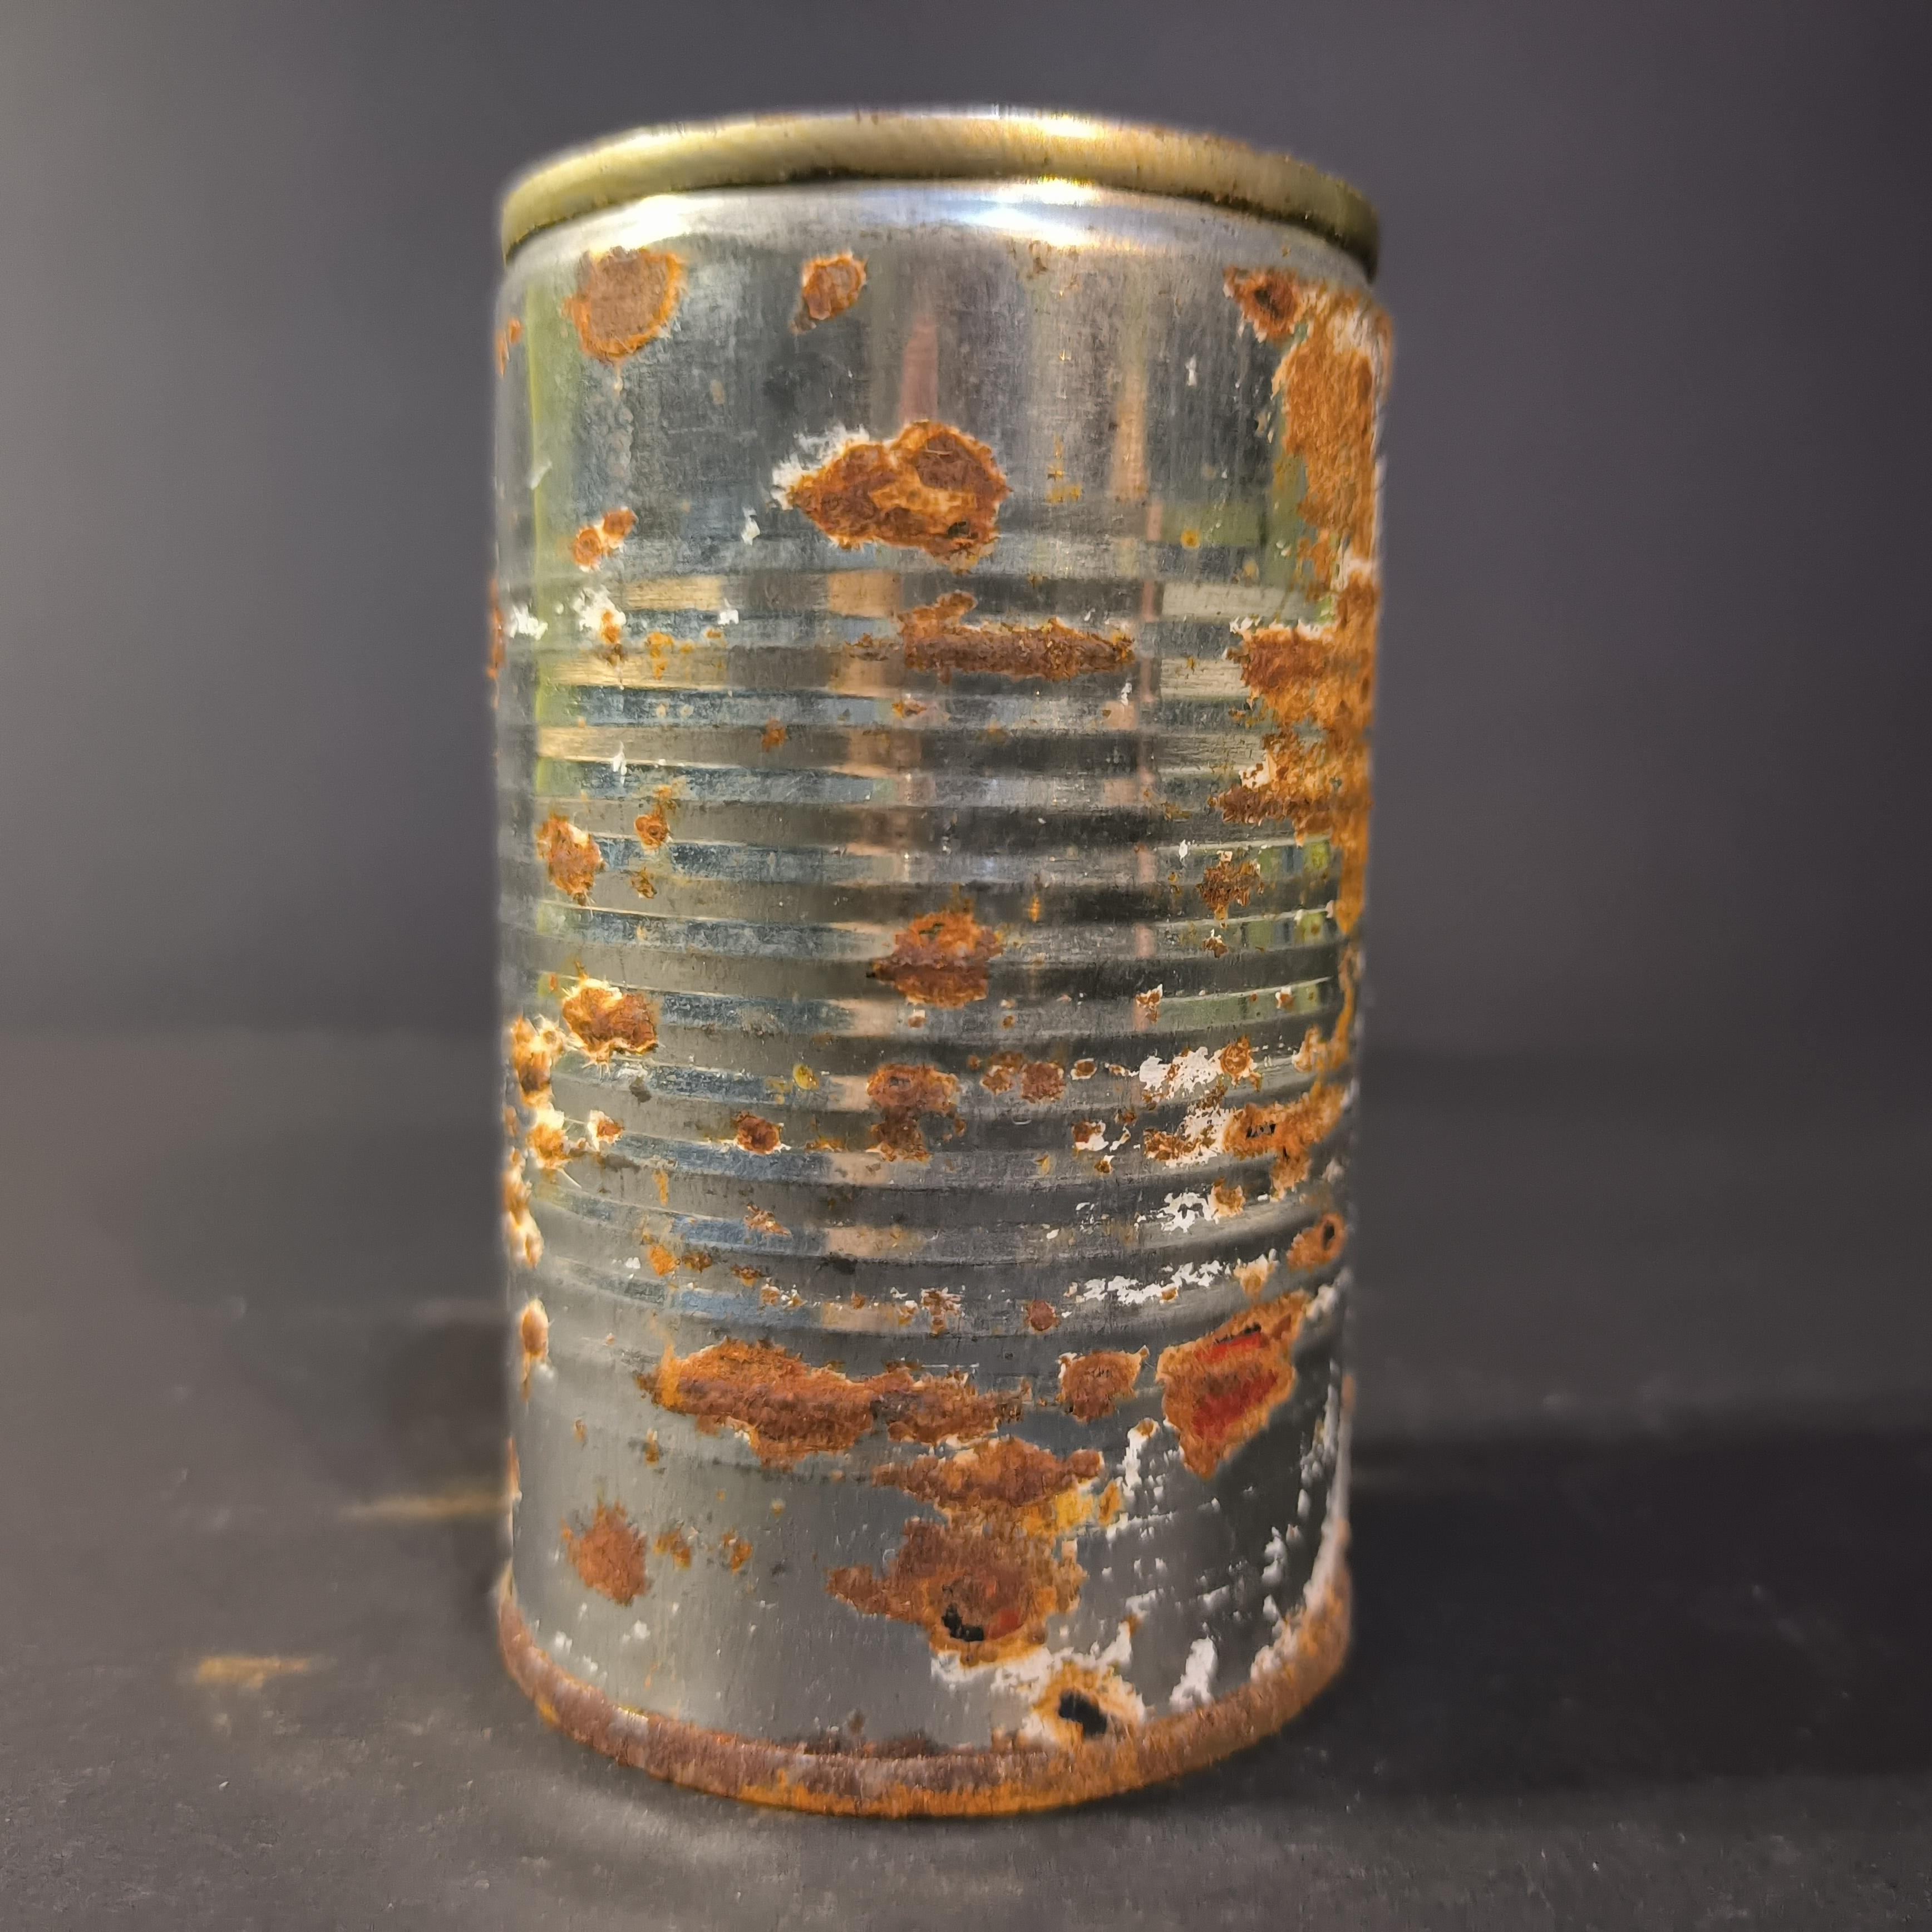Rusted: (446, 88, 1389, 1838)
